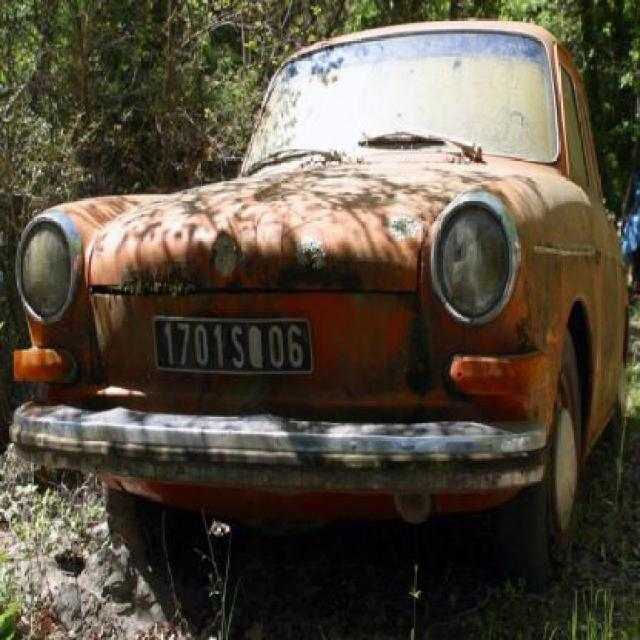corrosion: (19, 19, 633, 573)
